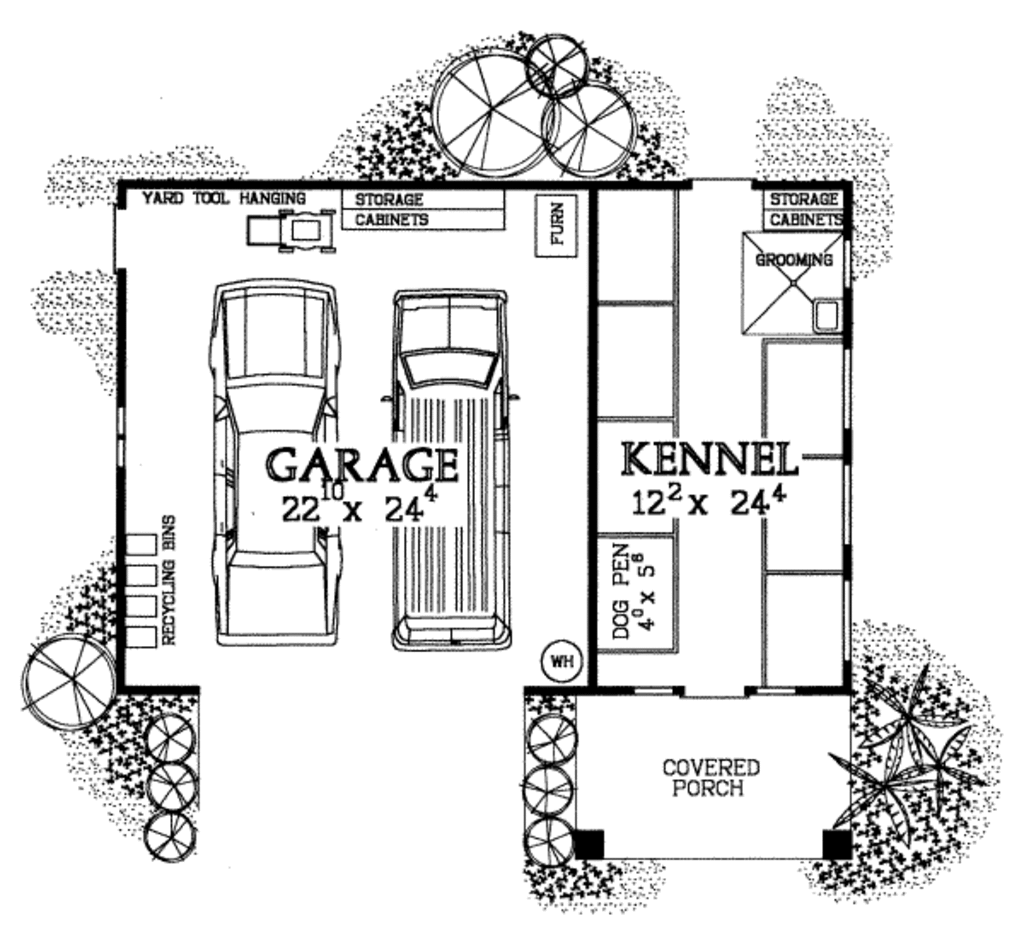sink: (805, 292, 844, 343)
window: (836, 334, 856, 443), (843, 582, 862, 676), (840, 460, 859, 544), (117, 414, 133, 497), (749, 681, 804, 704), (627, 685, 701, 698)
